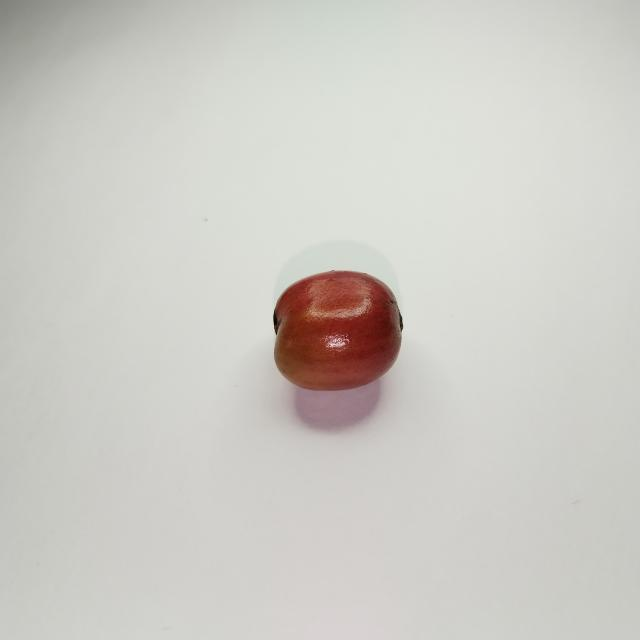Sano: (274, 269, 401, 391)
